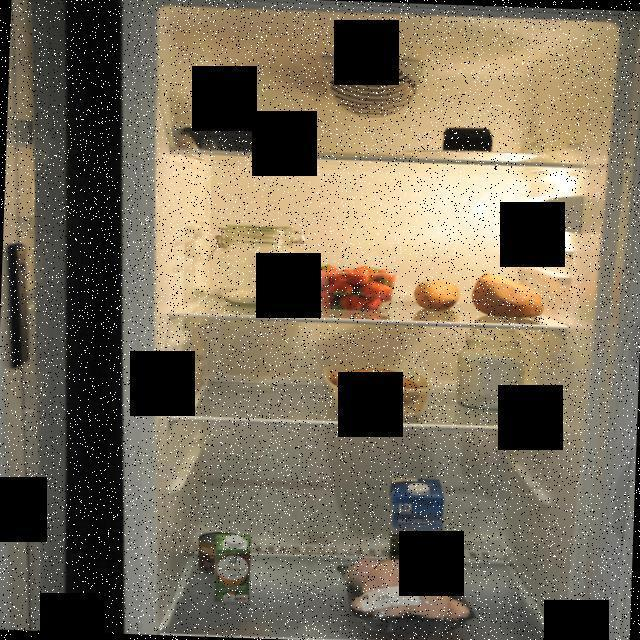Berries strawberries/blueberries: (312, 260, 399, 315)
Cheese: (439, 125, 496, 156)
Chicken: (331, 554, 478, 636)
Corn ear: (197, 530, 244, 574)
Cream: (212, 532, 252, 603)
Flour: (198, 214, 310, 310)
Milk carton/jug: (388, 476, 448, 570)
Potato: (322, 362, 437, 418)
Sugar: (454, 322, 528, 412)
Sweet Potato: (467, 271, 546, 323), (414, 277, 461, 310)
